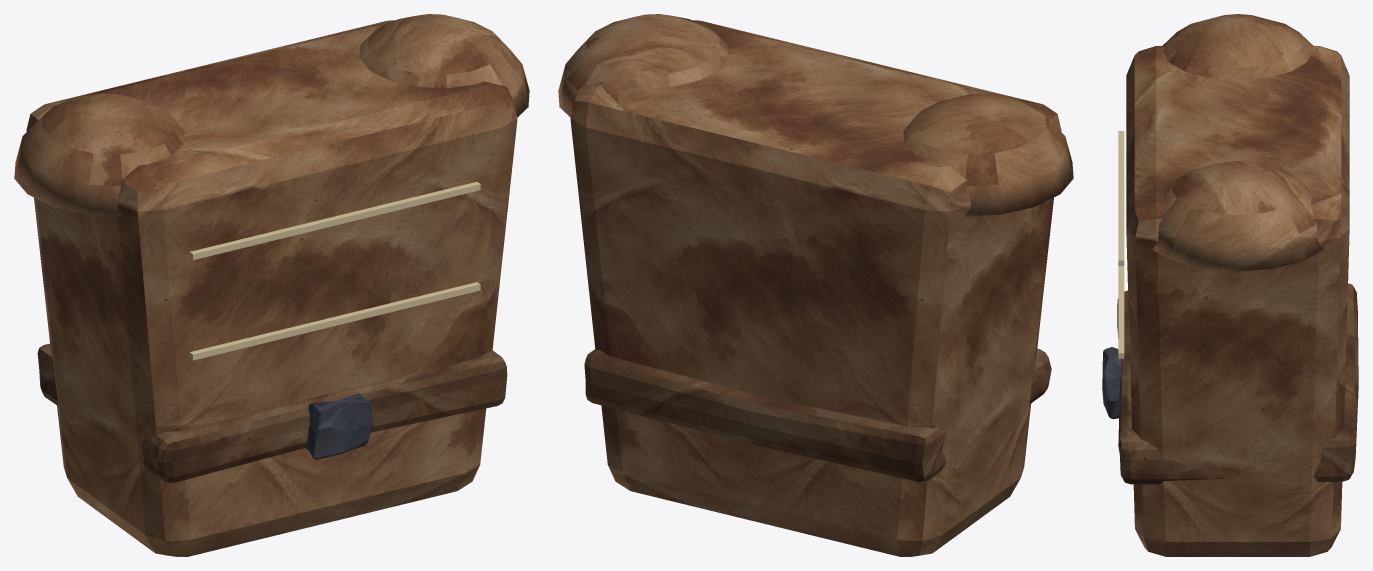
The model's file is tunic_leather.glb.
3 views of the same model, side by side, from view 1: azimuth 30°, elevation 25°; view 2: azimuth 150°, elevation 25°; view 3: azimuth 270°, elevation 25° (orthographic). The views are drawn at different scales.
Parts seen in each view (by area): view 1: model; view 2: model; view 3: model.
Part boxes in pixels (x1,y1,x2,y2): model: (14,14,529,556); model: (558,14,1073,556); model: (1102,14,1358,556).
Bounding box in the file's own units: 0.51 × 0.43 × 0.2508.
4 materials, 3 textured.
